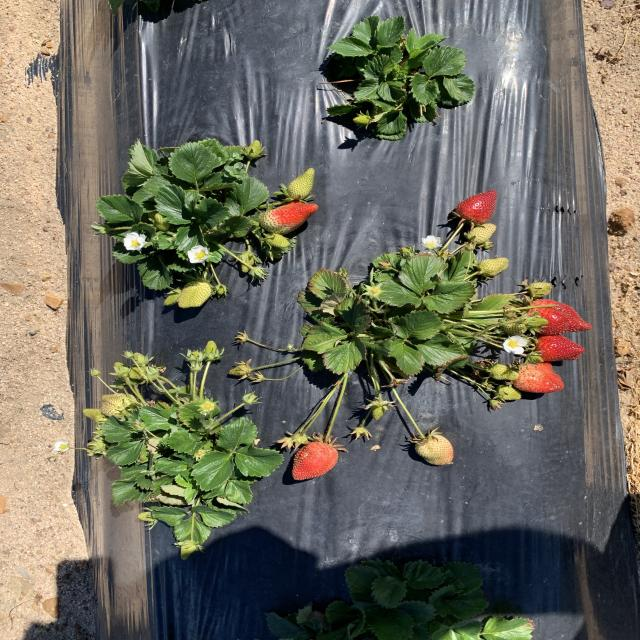unripe: (522, 298, 592, 335), (264, 200, 321, 230), (291, 444, 335, 482), (512, 362, 564, 392), (530, 335, 586, 361), (456, 187, 498, 220)
